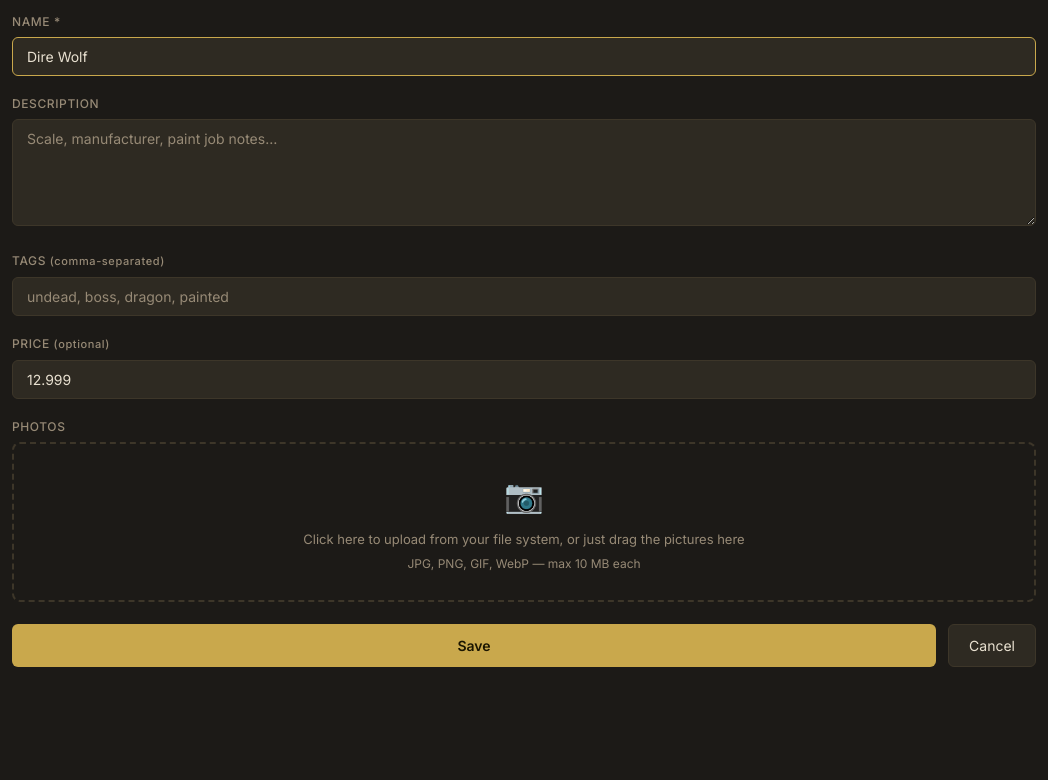
Test case: MiniForm › asks for at most two decimal places
Click the button "Save".
click(474, 645)  # box x1=12 y1=624 x2=936 y2=667
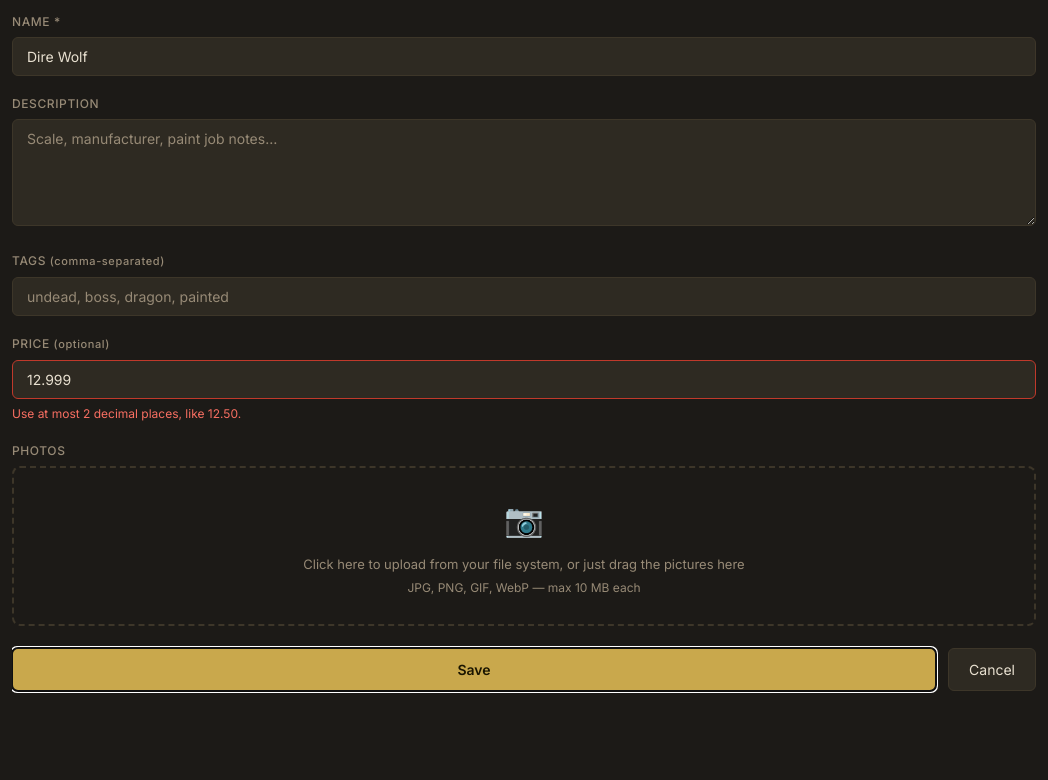
expect the text "Use at most 2 decimal places, like 12.50." is shown: met, box x1=12 y1=406 x2=241 y2=421
